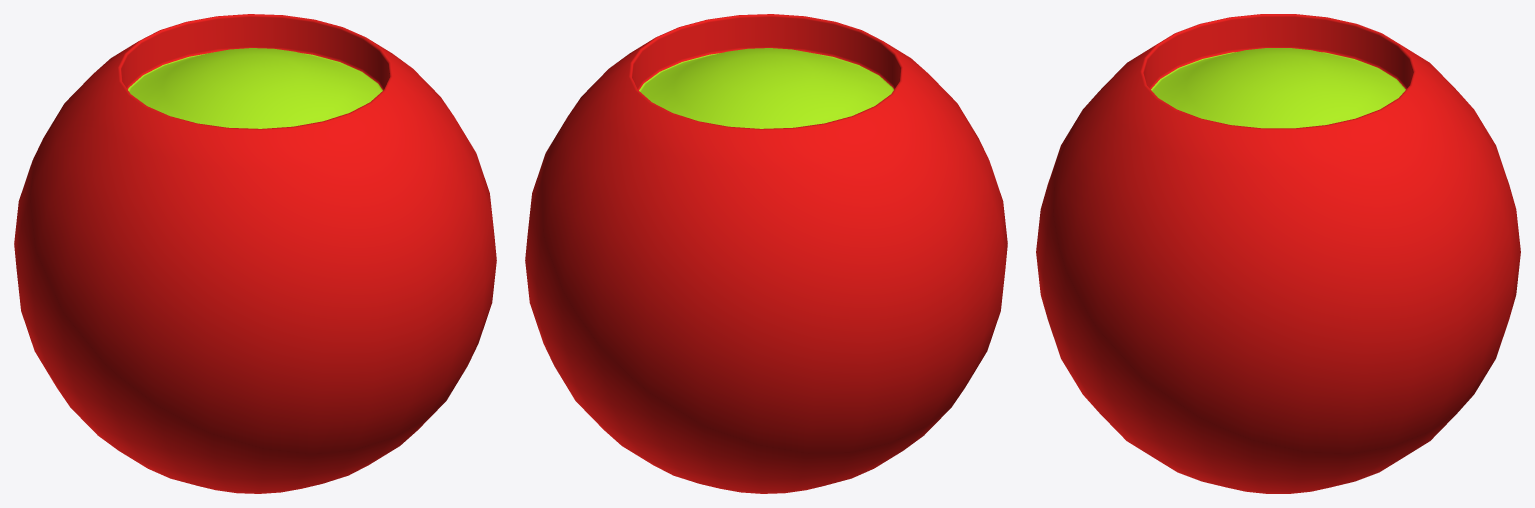
Rendered from than sau 2 lop.fbx.
The picture shows the model from 3 angles, left to right: view 1: azimuth 30°, elevation 25°; view 2: azimuth 150°, elevation 25°; view 3: azimuth 270°, elevation 25°; orthographic projection.
Parts seen in each view (by area): view 1: than; view 2: than; view 3: than.
Part boxes in pixels (bbox=[...]): than: bbox=[14, 14, 496, 493]; than: bbox=[525, 14, 1007, 493]; than: bbox=[1036, 14, 1520, 493].
Size of the model in its own units: 49.64 by 45.7 by 50.
